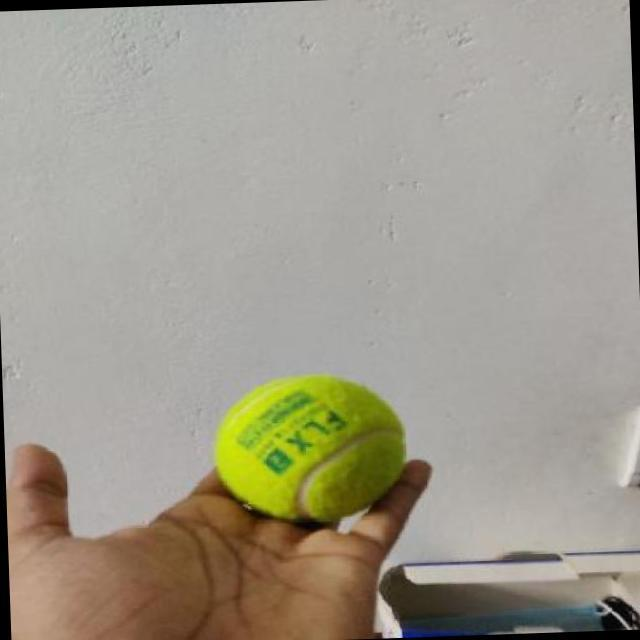-: (162, 361, 465, 537)
